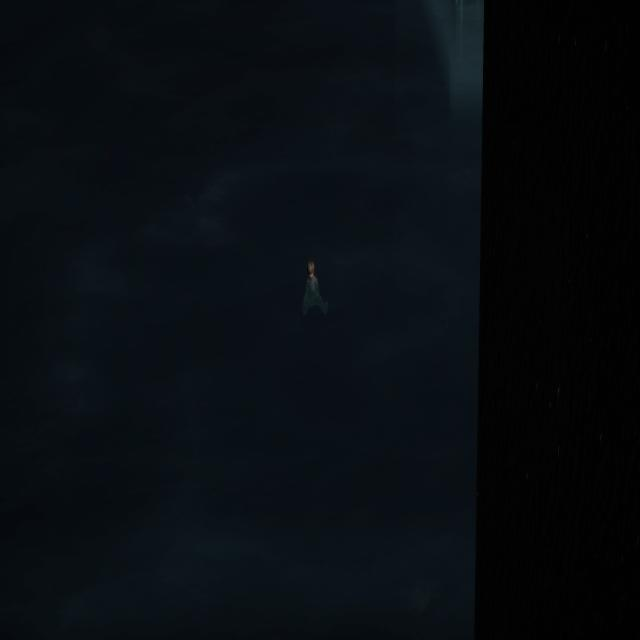Human: (297, 250, 333, 329)
